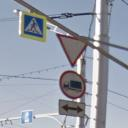preferencia: (56, 32, 94, 69)
